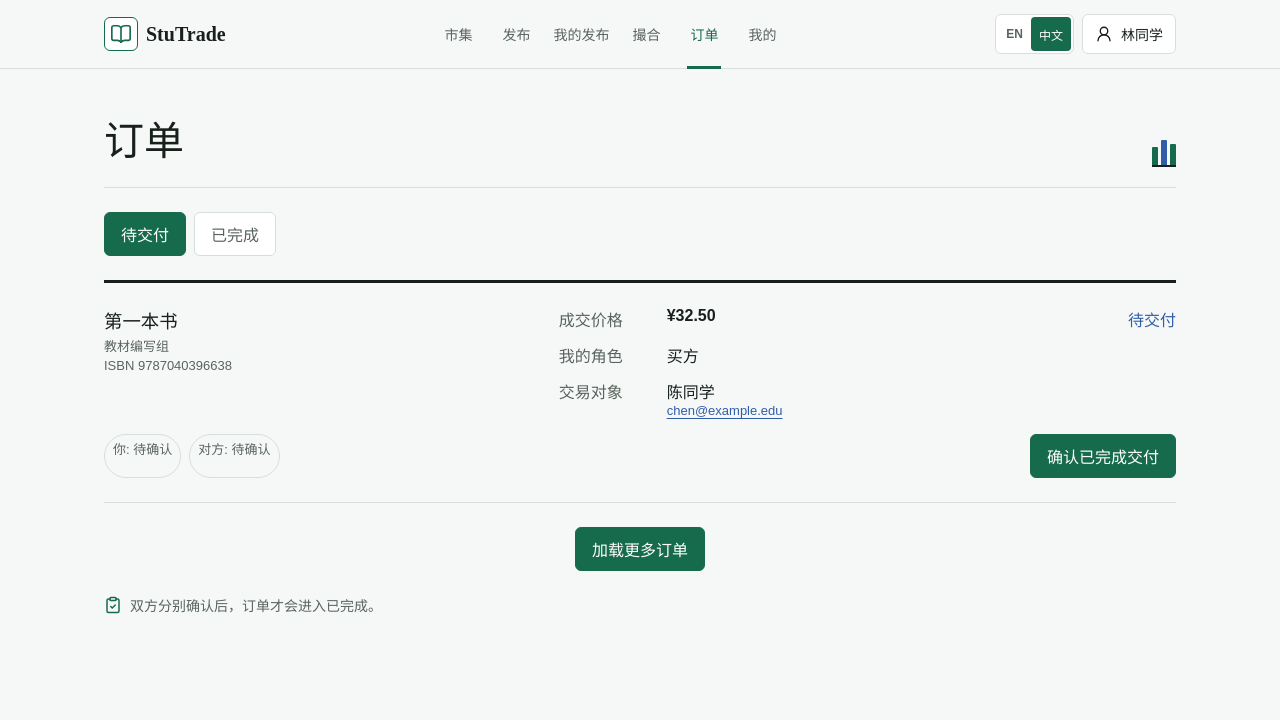
Test: orders › loads another cursor page
Check: the text "第一本书" is shown, box [104, 312, 178, 332]
Step 1. Click the button "加载更多订单" → click(640, 549), box [575, 527, 705, 571]
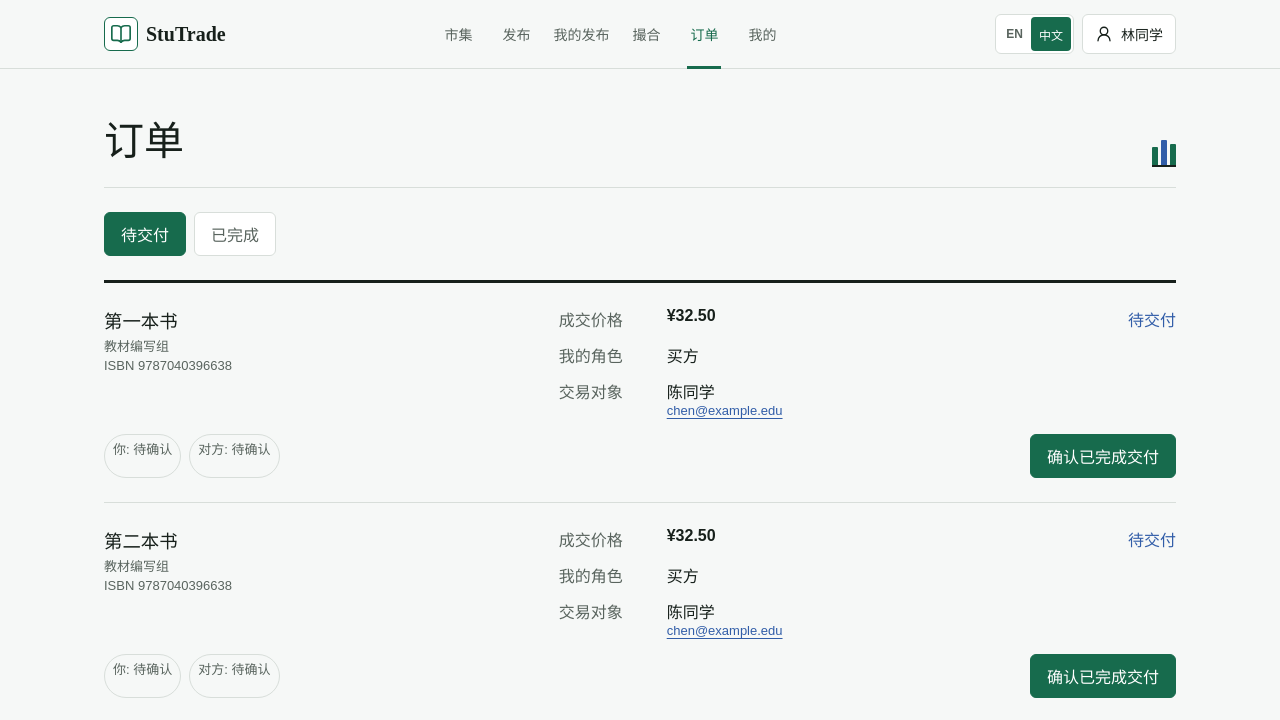
Check: the text "第二本书" is shown, box [104, 532, 178, 552]
